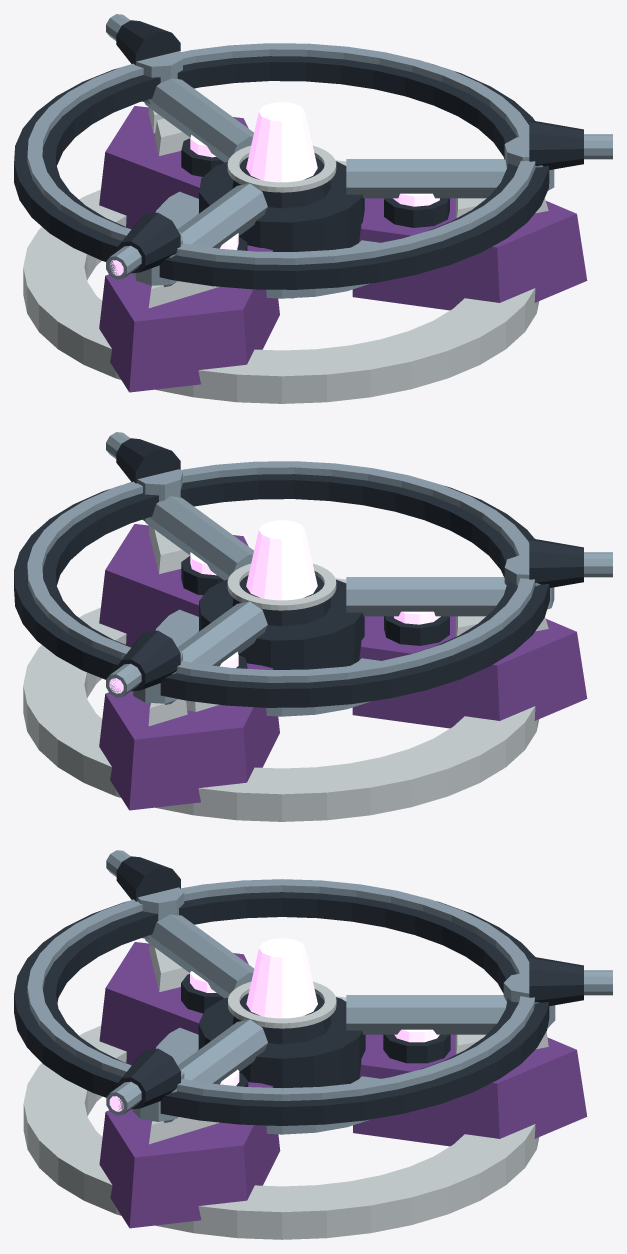
File: c5_spiral.glb
3 renders of one model, top to bottom at view 1: azimuth 30°, elevation 25°; view 2: azimuth 150°, elevation 25°; view 3: azimuth 270°, elevation 25°, orthographic.
Visible parts, largest first — view 1: radial_rotor / Chassis, c5_spiral / Armor, radial_rotor / Titanium, c5_spiral / Identification, c5_spiral / Chassis, c5_spiral / Energy, c5_spiral / Titanium; view 2: radial_rotor / Chassis, c5_spiral / Armor, radial_rotor / Titanium, c5_spiral / Identification, c5_spiral / Chassis, c5_spiral / Energy, c5_spiral / Titanium; view 3: radial_rotor / Chassis, c5_spiral / Armor, radial_rotor / Titanium, c5_spiral / Identification, c5_spiral / Chassis, c5_spiral / Energy, c5_spiral / Titanium.
Part boxes in pixels (x1,y1,x2,y2): radial_rotor / Chassis: [14, 20, 583, 289]; c5_spiral / Armor: [99, 106, 587, 392]; radial_rotor / Titanium: [27, 14, 612, 287]; c5_spiral / Identification: [23, 107, 548, 403]; c5_spiral / Chassis: [181, 138, 449, 298]; c5_spiral / Energy: [190, 102, 439, 249]; c5_spiral / Titanium: [155, 191, 380, 298]; radial_rotor / Chassis: [14, 438, 583, 707]; c5_spiral / Armor: [99, 524, 587, 810]; radial_rotor / Titanium: [27, 432, 612, 704]; c5_spiral / Identification: [23, 526, 548, 821]; c5_spiral / Chassis: [181, 556, 449, 669]; c5_spiral / Energy: [190, 520, 440, 668]; c5_spiral / Titanium: [155, 609, 380, 716]; radial_rotor / Chassis: [14, 856, 583, 1125]; c5_spiral / Armor: [99, 942, 587, 1228]; radial_rotor / Titanium: [27, 850, 612, 1122]; c5_spiral / Identification: [23, 944, 548, 1239]; c5_spiral / Chassis: [181, 974, 450, 1088]; c5_spiral / Energy: [190, 938, 439, 1085]; c5_spiral / Titanium: [156, 1027, 380, 1134].
Bounding box in the file's own units: 1.82 × 0.6275 × 1.86.
